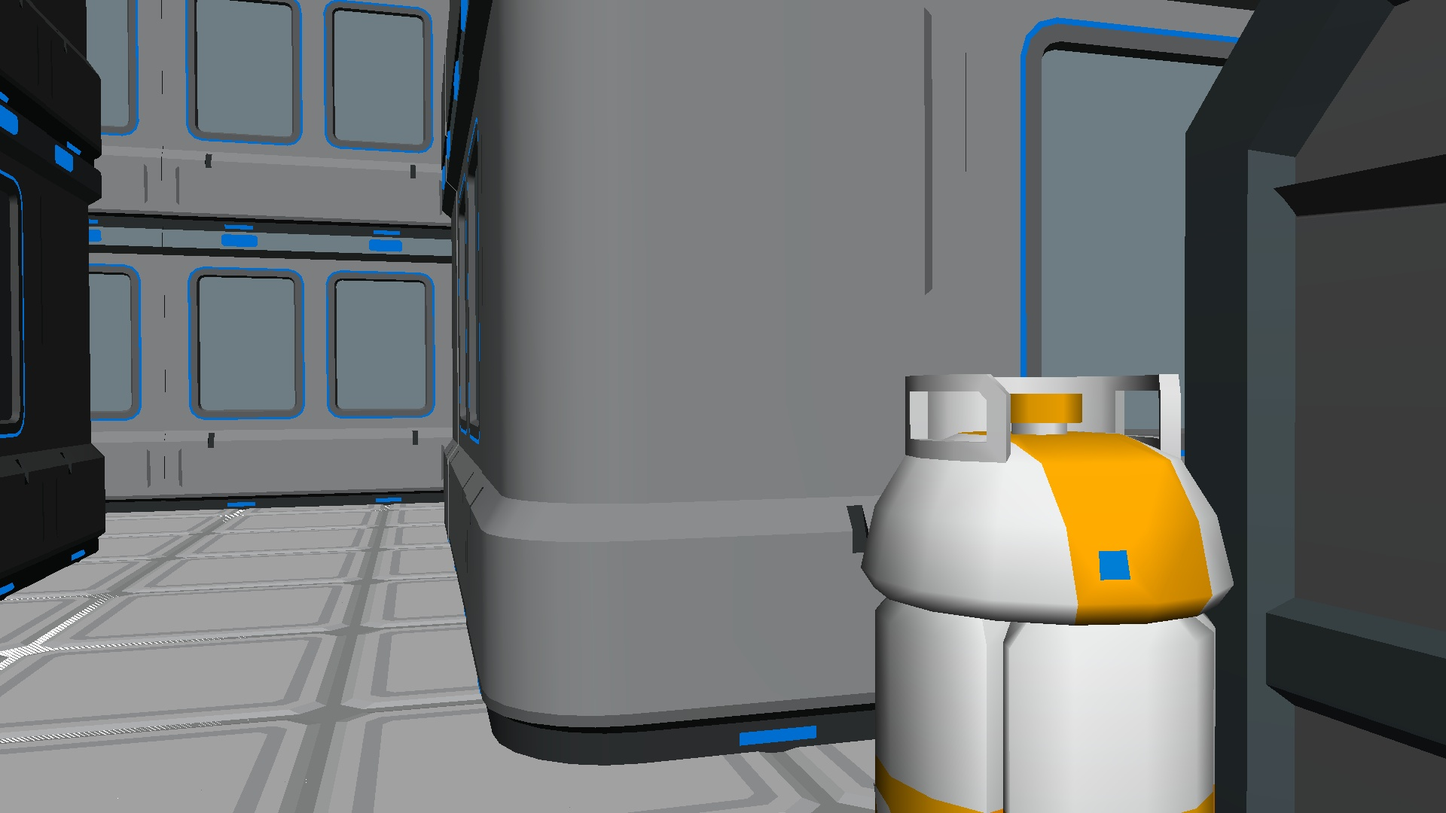yellow barrel: (847, 374, 1234, 813)
